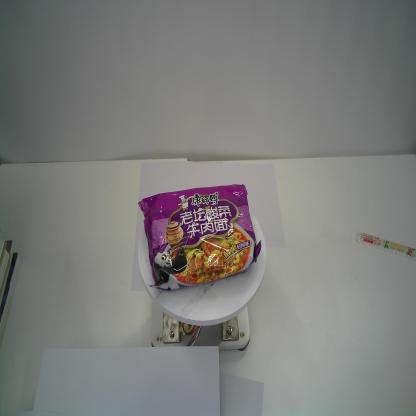Instant Noodles: (137, 183, 263, 292)
